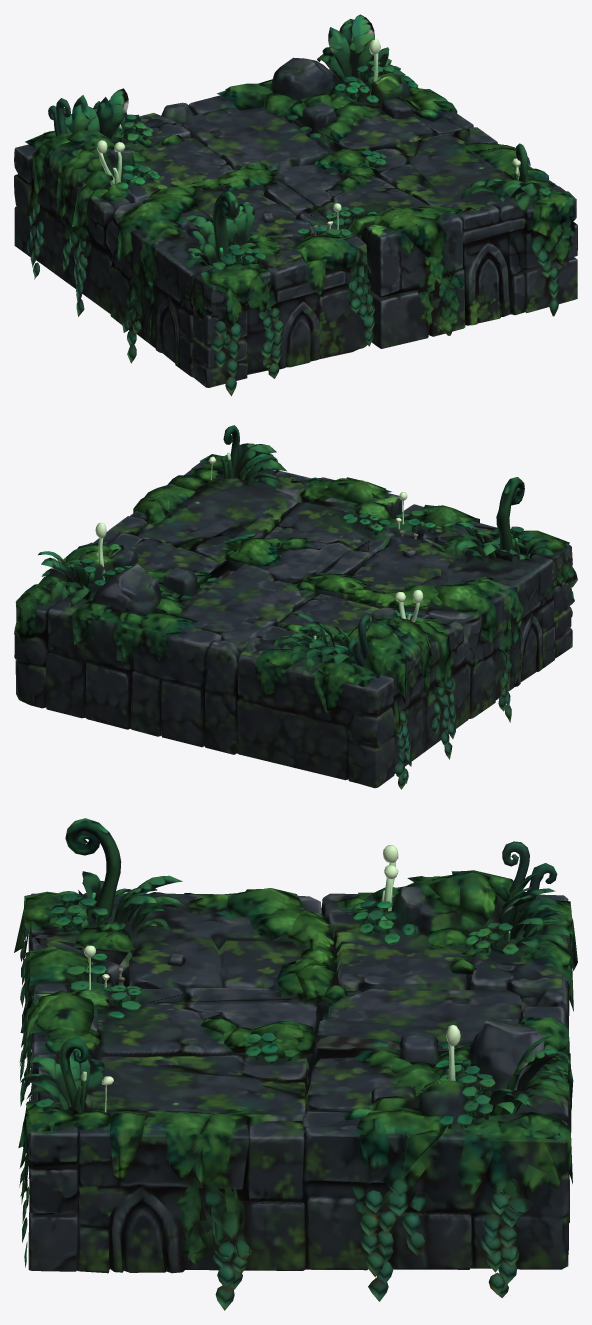
File: pasto.glb
3 views of the same model, one above another, from view 1: azimuth 30°, elevation 25°; view 2: azimuth 150°, elevation 25°; view 3: azimuth 270°, elevation 25° (orthographic). The views are drawn at different scales.
Visible parts, largest first — view 1: geometry_0; view 2: geometry_0; view 3: geometry_0.
Part boxes in pixels (bbox=[...]): geometry_0: bbox=[14, 14, 577, 396]; geometry_0: bbox=[14, 425, 577, 789]; geometry_0: bbox=[14, 818, 577, 1310].
Size of the model in its own units: 0.9453 by 0.4644 by 0.8784.
Materials: 1 (1 with a texture image).
